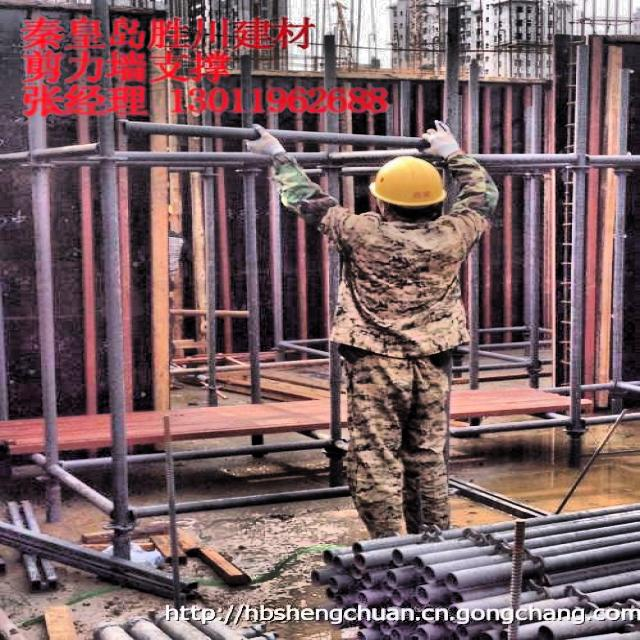helmet: (360, 148, 456, 231)
